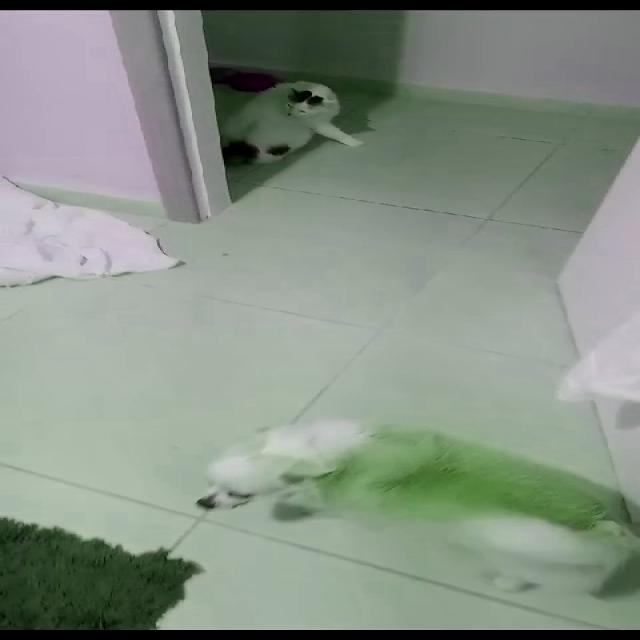Simba: (211, 63, 360, 171)
Theo: (171, 400, 638, 626)
